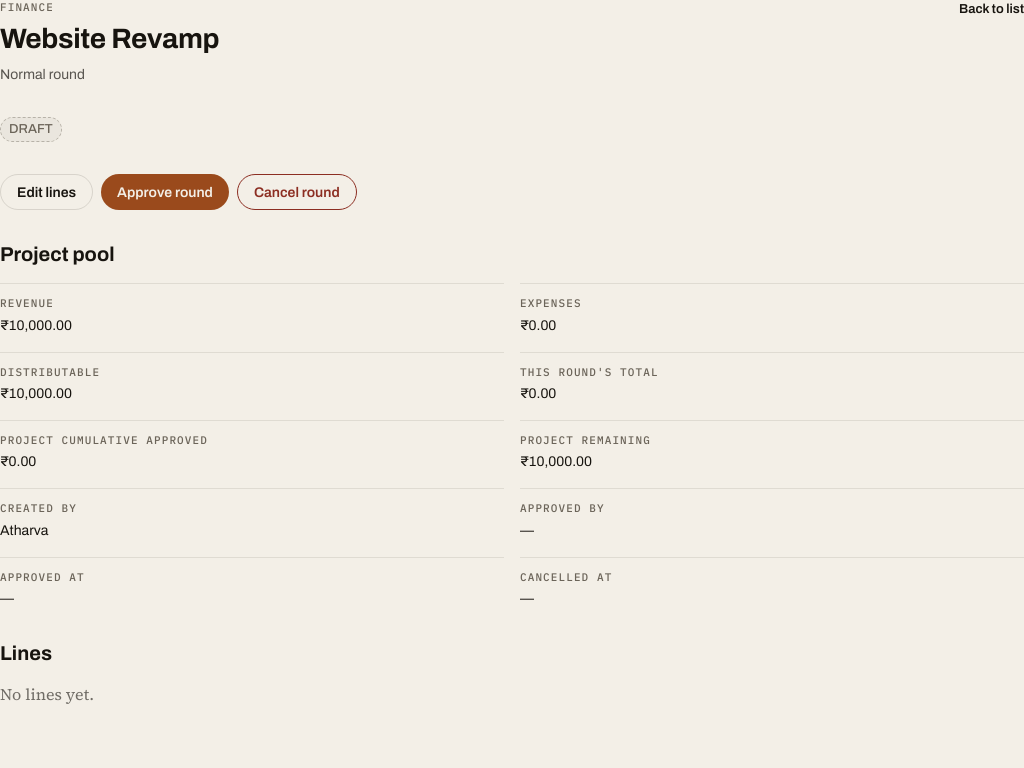
ProjectAllocationDetailPage — approve › surfaces a pool-exceeded conflict from the server
Click the button "Approve round". click: point(165, 192)
box: left=101, top=174, right=229, bottom=210
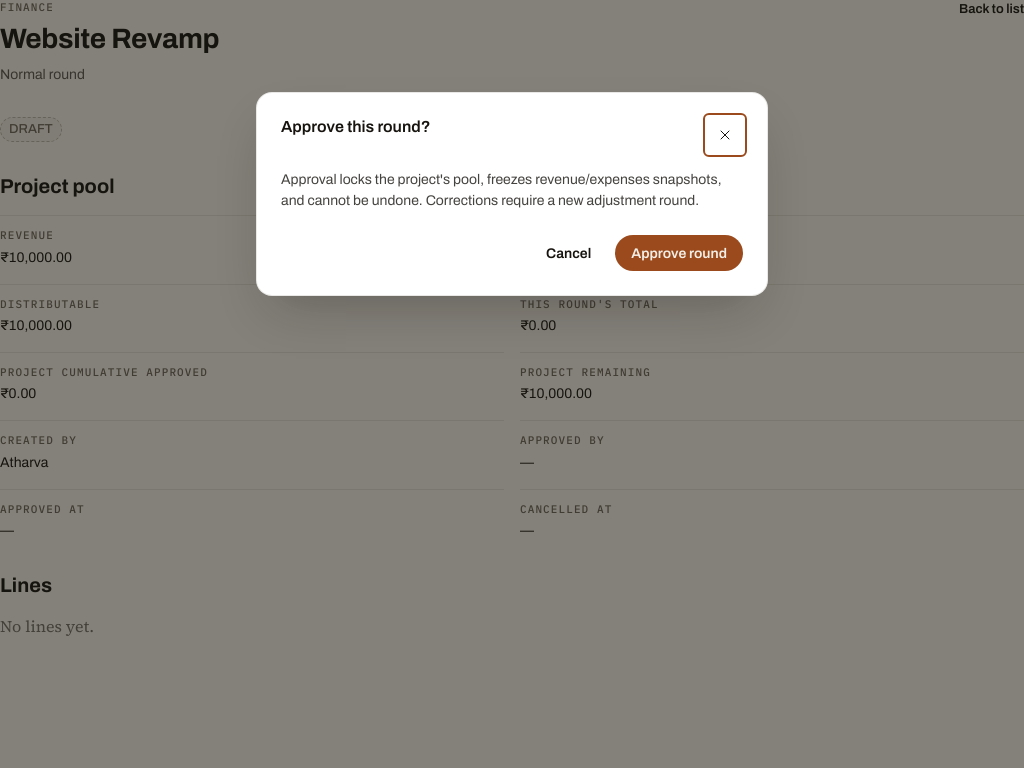
Click the button "Approve round". click: point(679, 253)
box: left=615, top=235, right=743, bottom=271
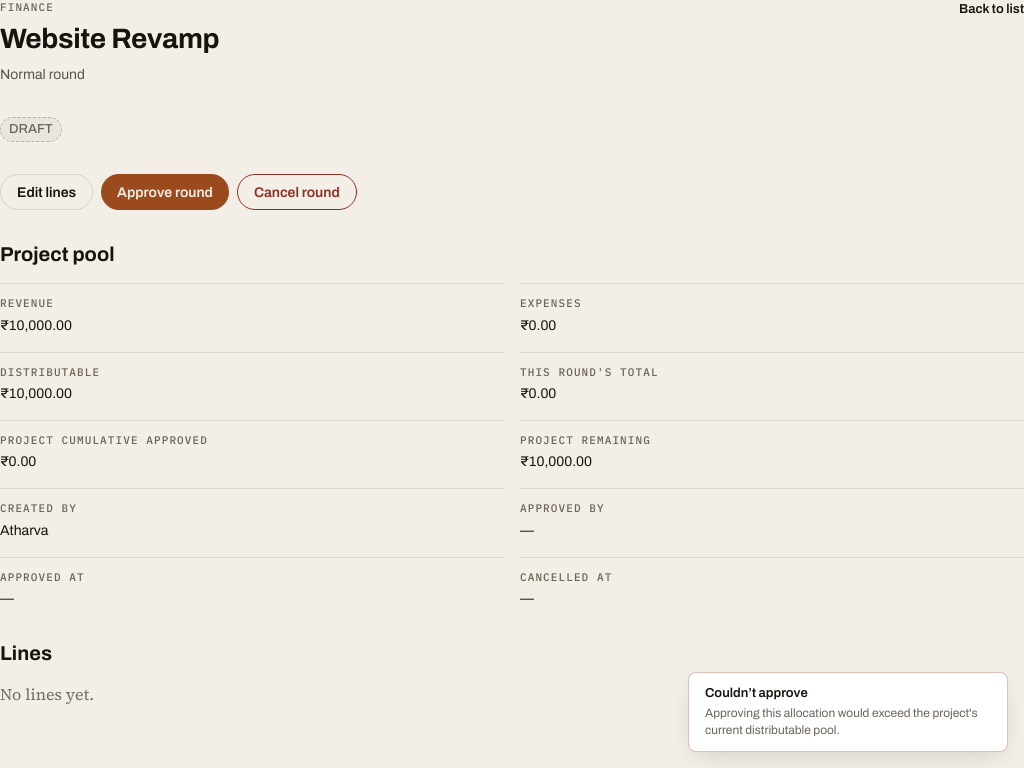
Now the text "Couldn’t approve" is shown, box left=705, top=686, right=808, bottom=700
